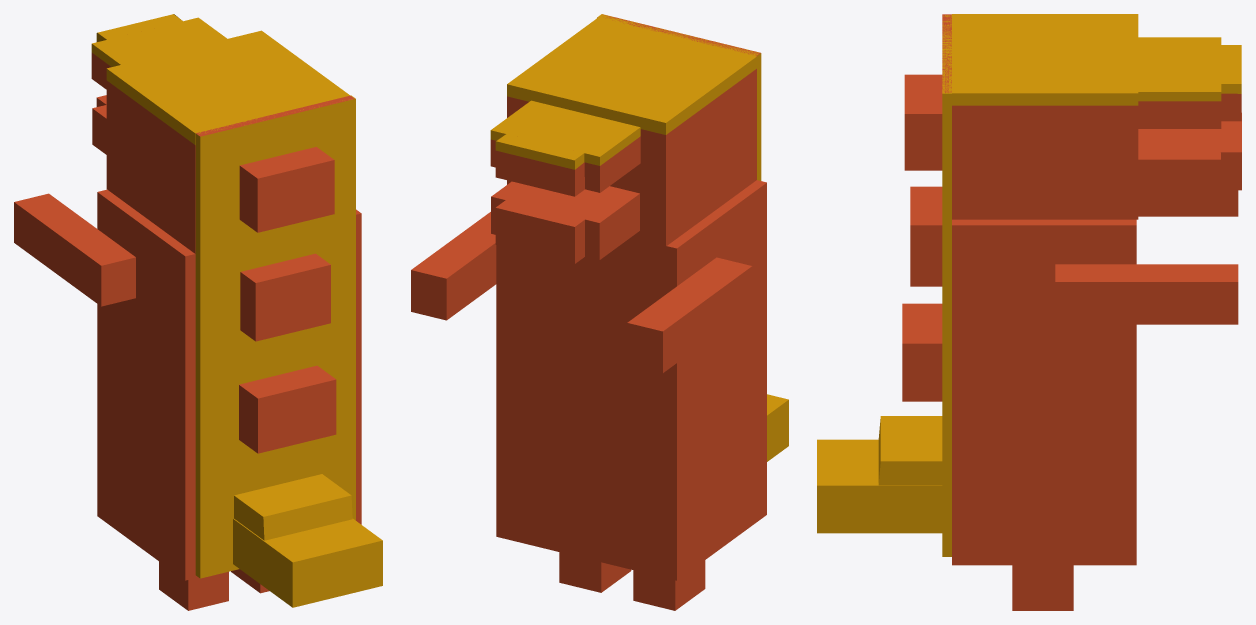
3 views of the same model, side by side, from view 1: azimuth 30°, elevation 25°; view 2: azimuth 150°, elevation 25°; view 3: azimuth 270°, elevation 25° (orthographic). The views are drawn at different scales.
Parts seen in each view (by area): view 1: dino; view 2: dino; view 3: dino.
Boxes of the visible parts, bbox=[...] form: dino: bbox=[14, 14, 382, 610]; dino: bbox=[411, 14, 788, 610]; dino: bbox=[817, 14, 1241, 610].
Size of the model in its own units: 1.93 by 3.79 by 2.76.
